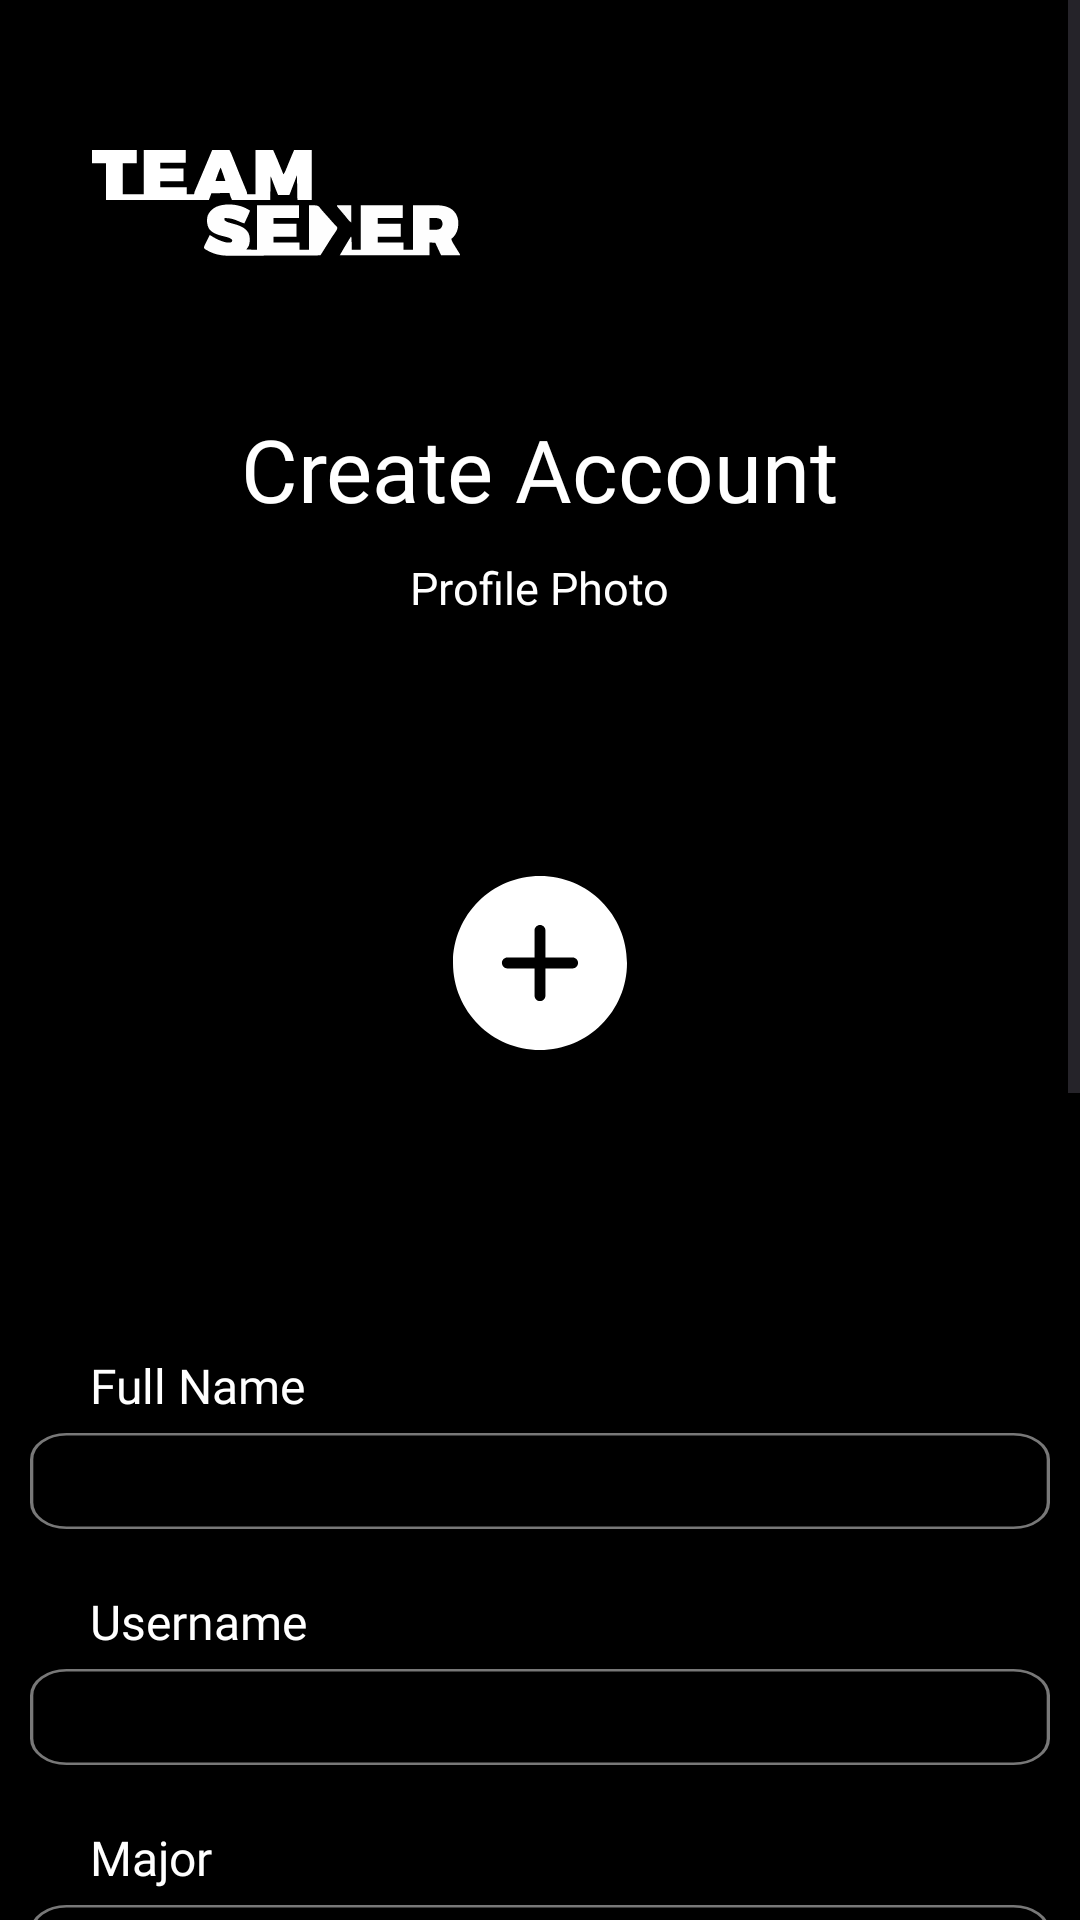

Locate icon controls on the screen. Image size 1080 × 1920, boxes as bbox=[x1, y1, x2, y2].
plus circle: bbox=[453, 876, 627, 1050]
